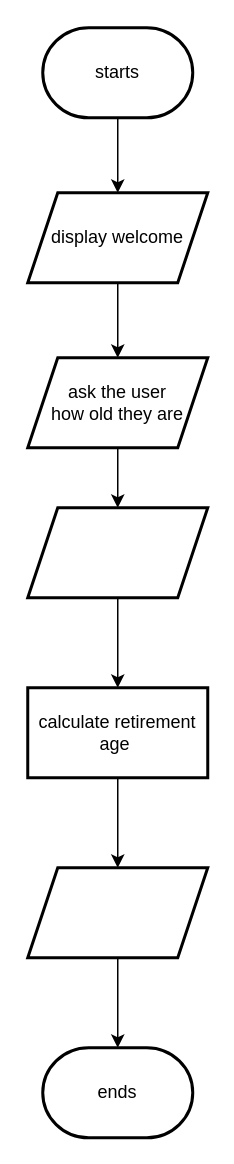
The diagram is 234 pixels wide and 1164 high, and some of its shapes have lost their labels. Here are the shapes that lost their labels. From the top down, the centre of each, then its label:
point (117, 552): get age
point (117, 912): print retirement message
